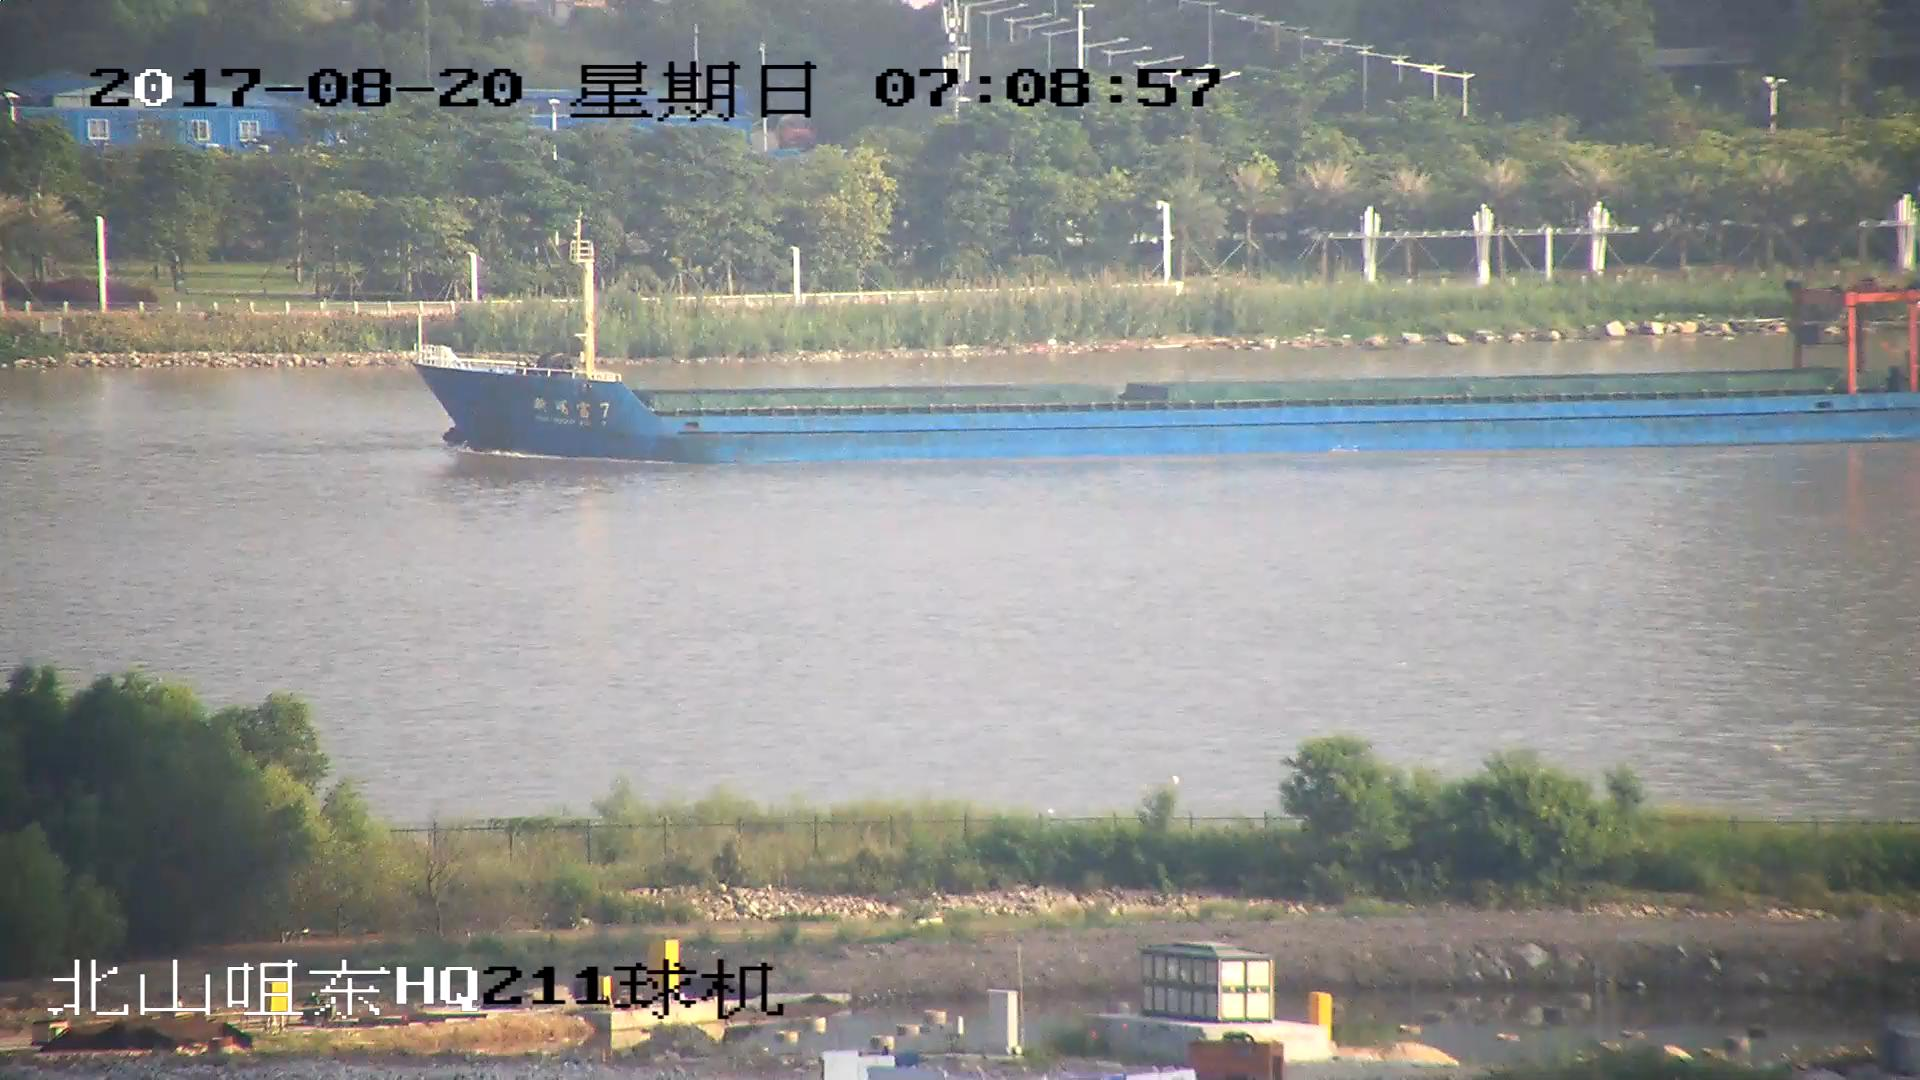general cargo ship: (415, 228, 1920, 463)
